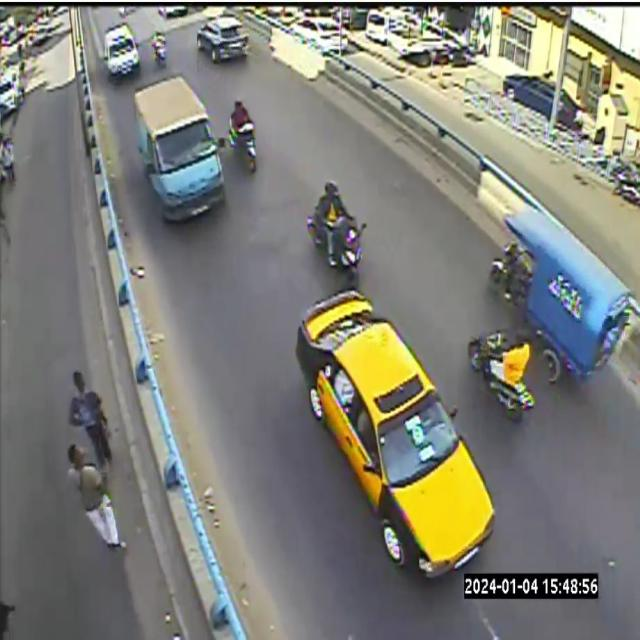car: (296, 289, 495, 578), (134, 77, 225, 219), (197, 17, 248, 62), (103, 24, 139, 78)
